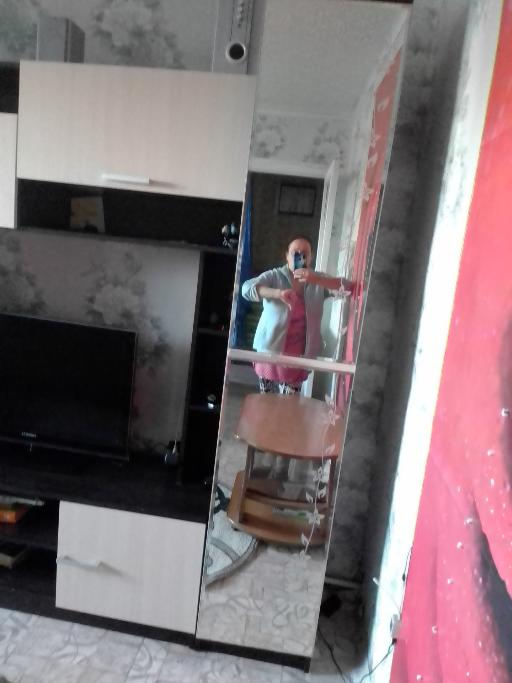dislike: (279, 287, 298, 311)
no_gesture: (291, 265, 316, 284)
